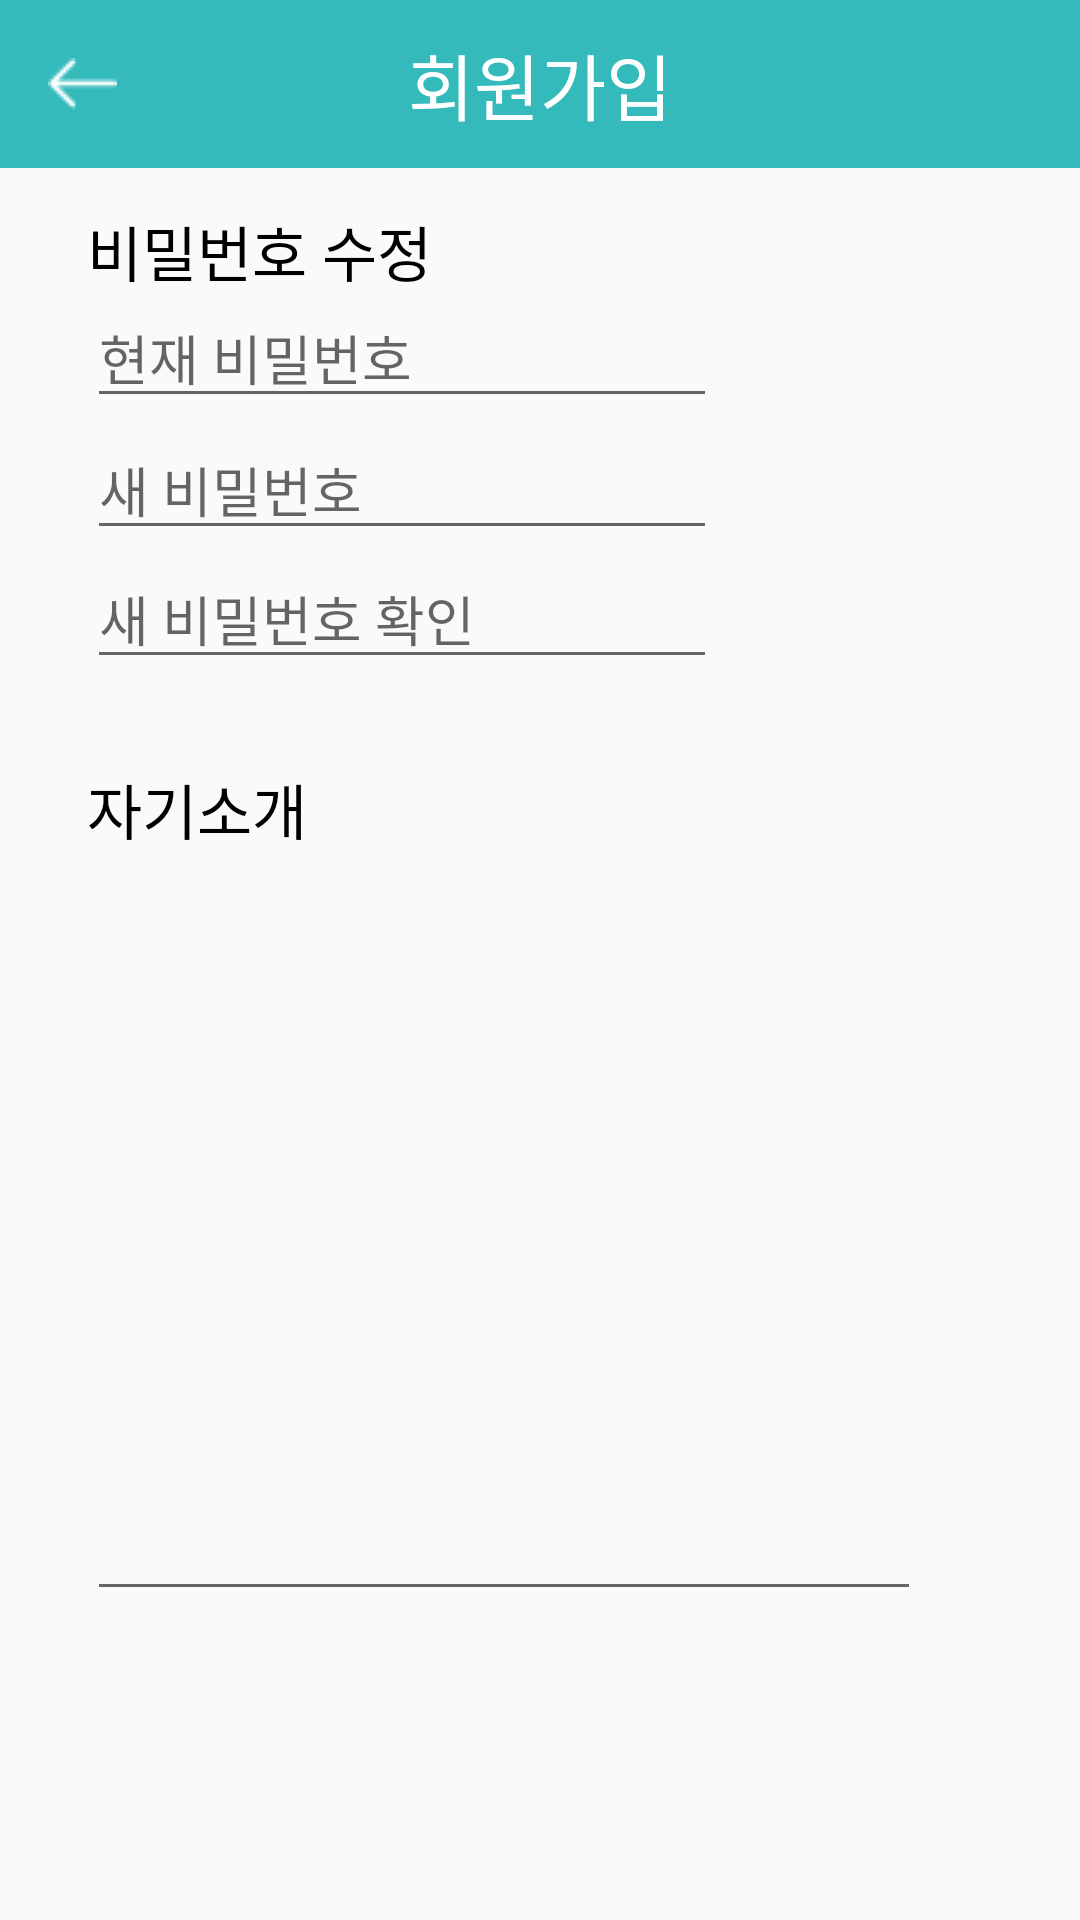

Point at icon controls on the screen. Image size 1080 x 1920, points as (x,y).
left arrow: (82,83)
